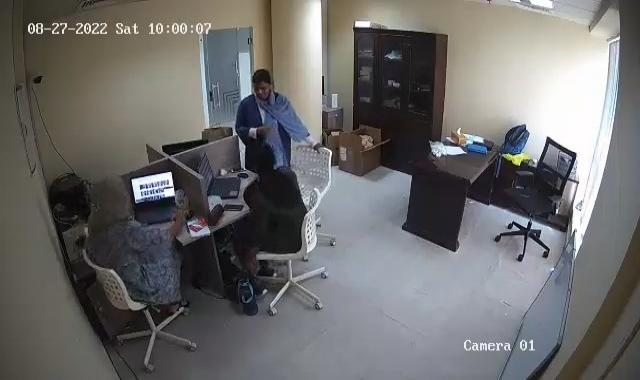no_hairnet: (95, 177, 130, 217), (247, 69, 279, 96), (248, 143, 277, 171)
